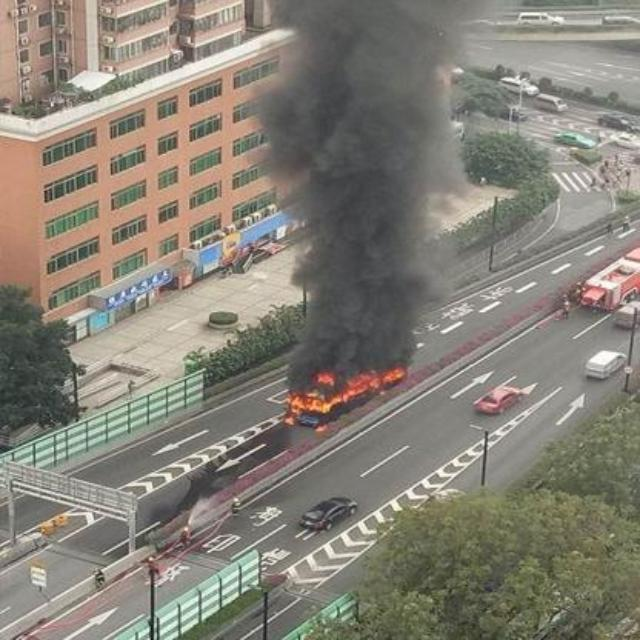Fire: (284, 359, 414, 423)
Smoke: (261, 3, 451, 359)
